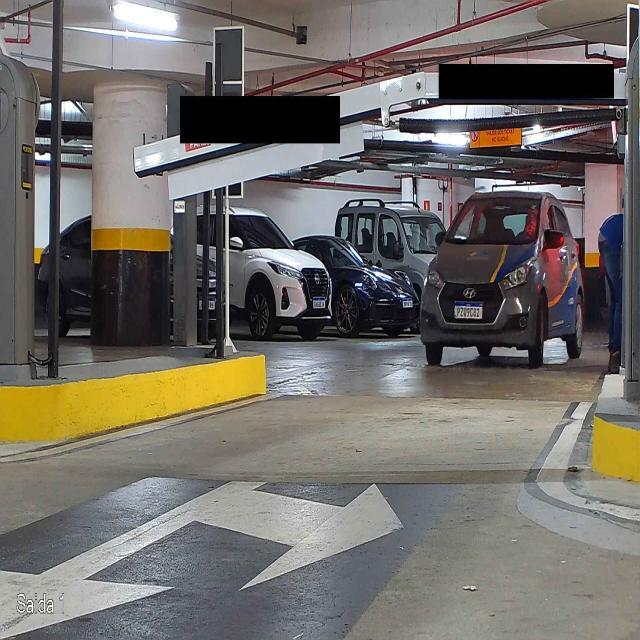mercosul_plate: (453, 300, 484, 320)
